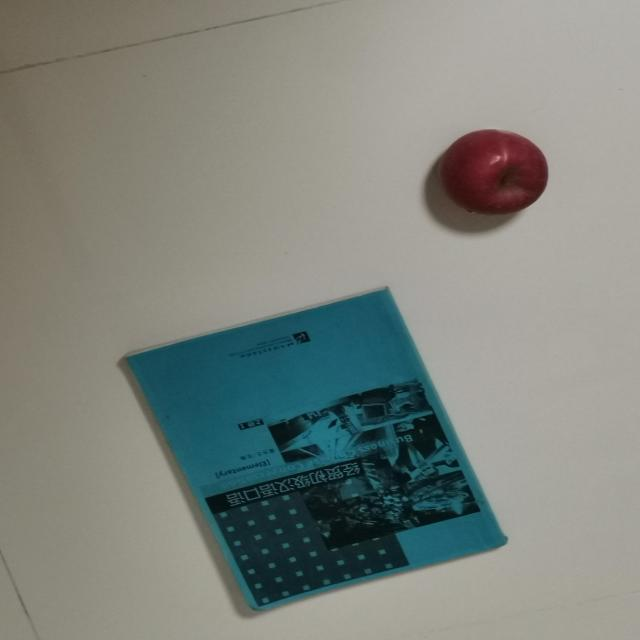Apple: (426, 130, 548, 214)
Book: (72, 288, 522, 615)
